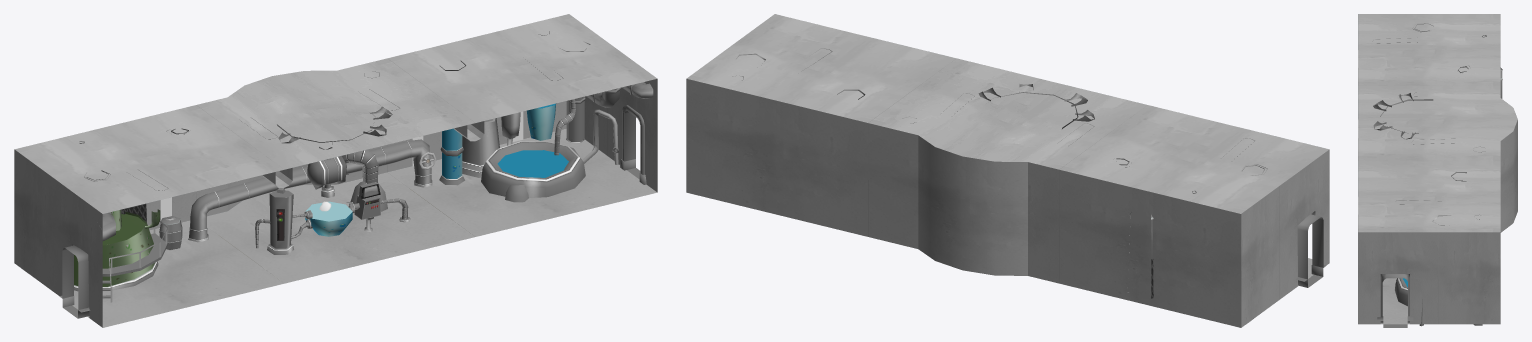
Rendered from MHS_Water_L3_R3_optimized.fbx.
The picture shows the model from 3 angles, left to right: view 1: azimuth 30°, elevation 25°; view 2: azimuth 150°, elevation 25°; view 3: azimuth 270°, elevation 25°; orthographic projection. The views are drawn at different scales.
Visible parts, largest first — view 1: lightmap0, lightmap-1, MHS_Water_L3_door, MHS_Water_r2_ani_01; view 2: lightmap0, MHS_Water_L3_door; view 3: lightmap0, MHS_Water_L3_door.
Part boxes in pixels (x1,y1,x2,y2): lightmap0: [14, 14, 657, 327]; lightmap-1: [74, 103, 568, 286]; MHS_Water_L3_door: [62, 110, 640, 318]; MHS_Water_r2_ani_01: [307, 156, 346, 189]; lightmap0: [686, 14, 1329, 327]; MHS_Water_L3_door: [1297, 214, 1323, 287]; lightmap0: [1358, 14, 1517, 326]; MHS_Water_L3_door: [1382, 274, 1407, 327].
Size of the model in its own units: 30.91 by 6.33 by 9.25.
